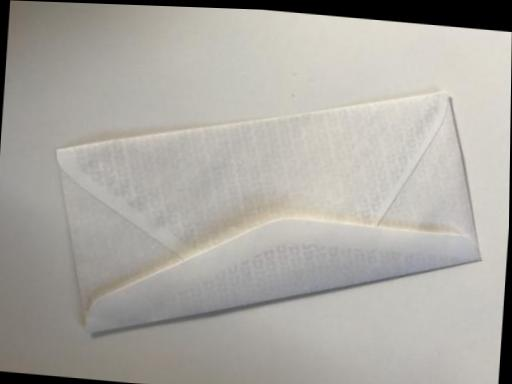paper: (57, 92, 500, 383)
